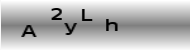2: (49, 7, 62, 21)
A: (20, 23, 37, 38)
L: (80, 8, 93, 22)
h: (104, 17, 118, 32)
y: (63, 22, 77, 35)
